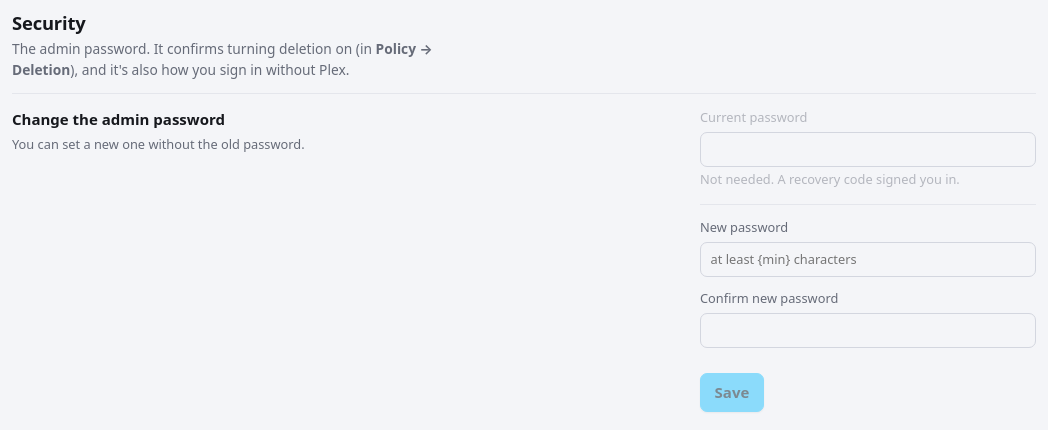
changing the password after signing in with a recovery code › asks for the current password again once the session's mark is spent
expect the password field labelled "Current password Not needed. A recovery code signed you in." is disabled: met, box [700, 132, 1036, 167]
Clear the password field labelled "New password" at (868, 260), box [700, 242, 1036, 278]
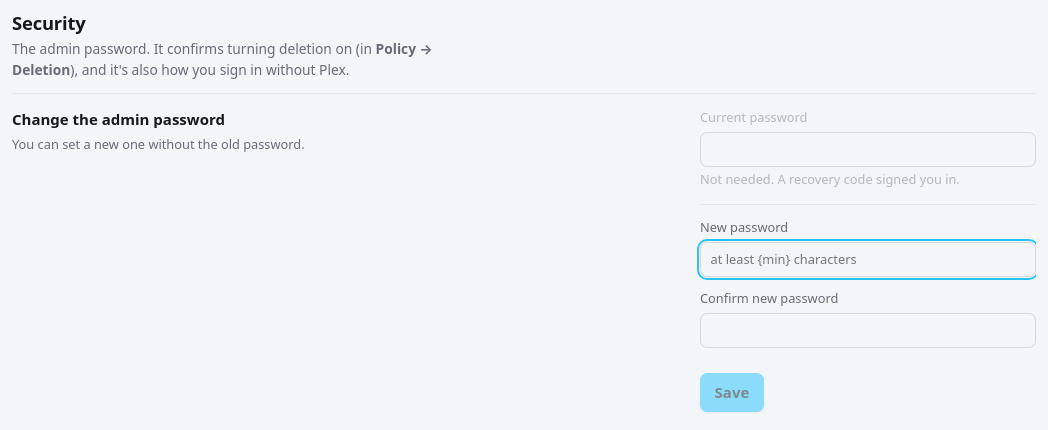
Type keys "a-long-enough-password"
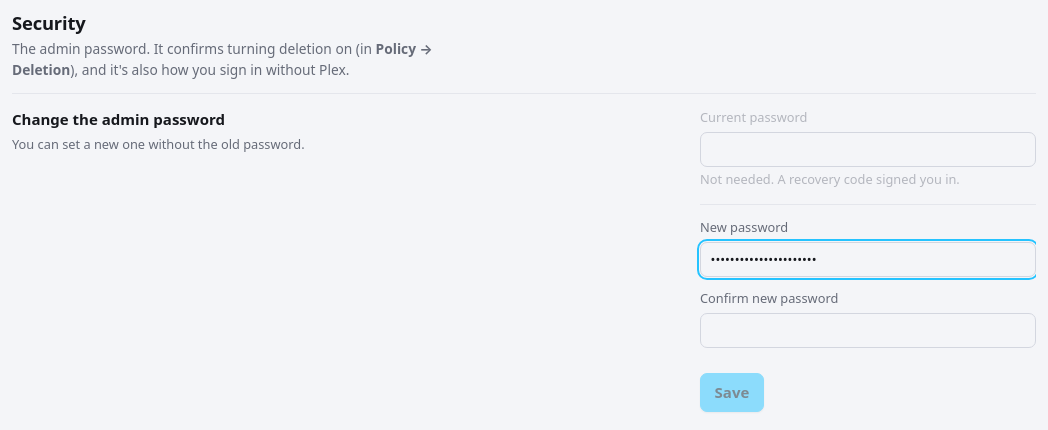
expect the password field labelled "New password" holds "a-long-enough-password": met, box [700, 242, 1036, 278]
Clear the password field labelled "Confirm new password" at (868, 330), box [700, 312, 1036, 348]
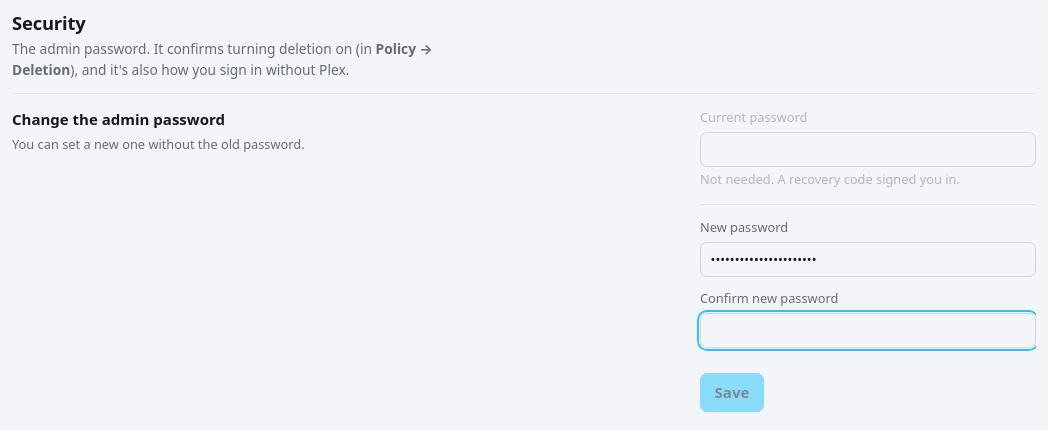
Type keys "a-long-enough-password"
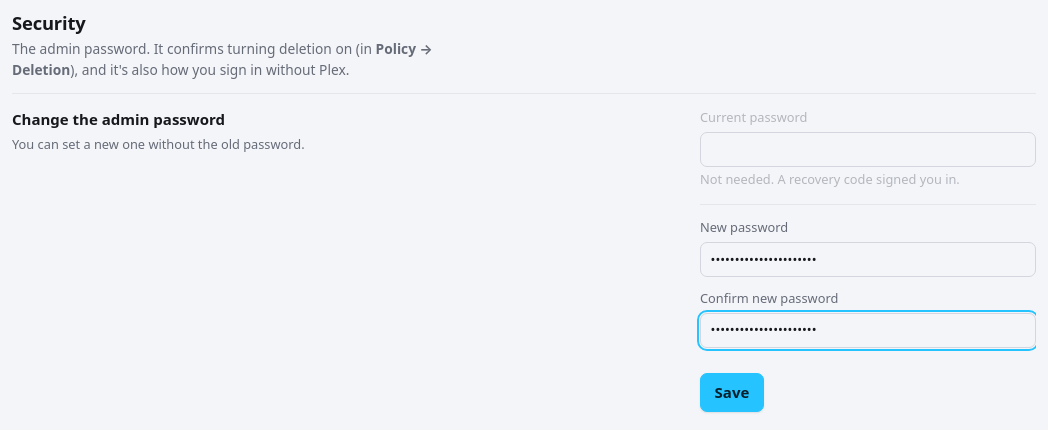
expect the password field labelled "Confirm new password" holds "a-long-enough-password": met, box [700, 312, 1036, 348]
Click the button "Save".
click(732, 393)  # box [700, 373, 764, 412]
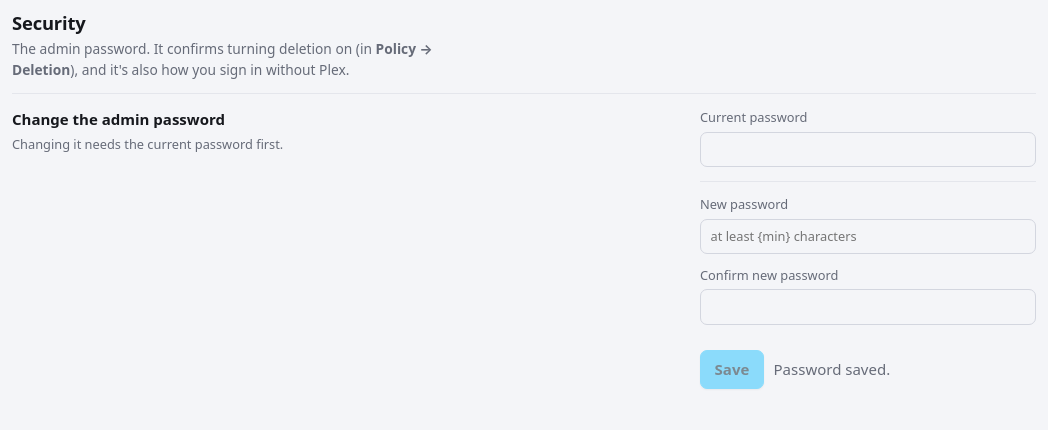
expect the password field labelled "Current password" is enabled: met, box [700, 132, 1036, 167]
expect the text "A recovery code signed you in" is gone: met
